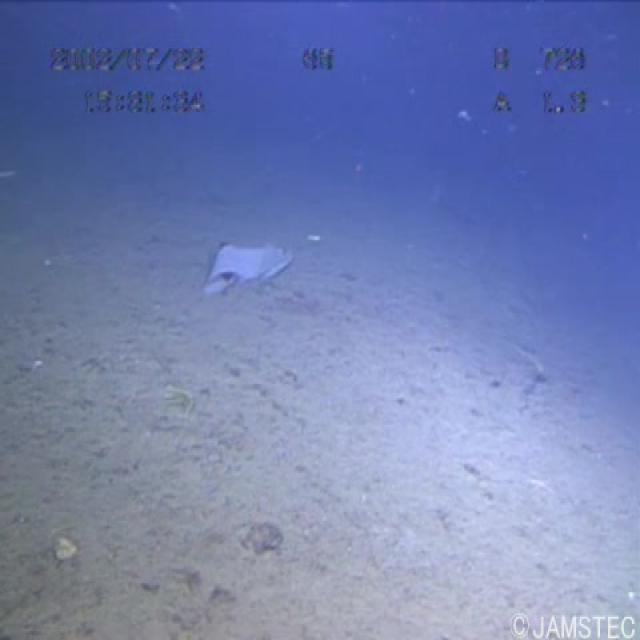plastic: (192, 233, 312, 311)
